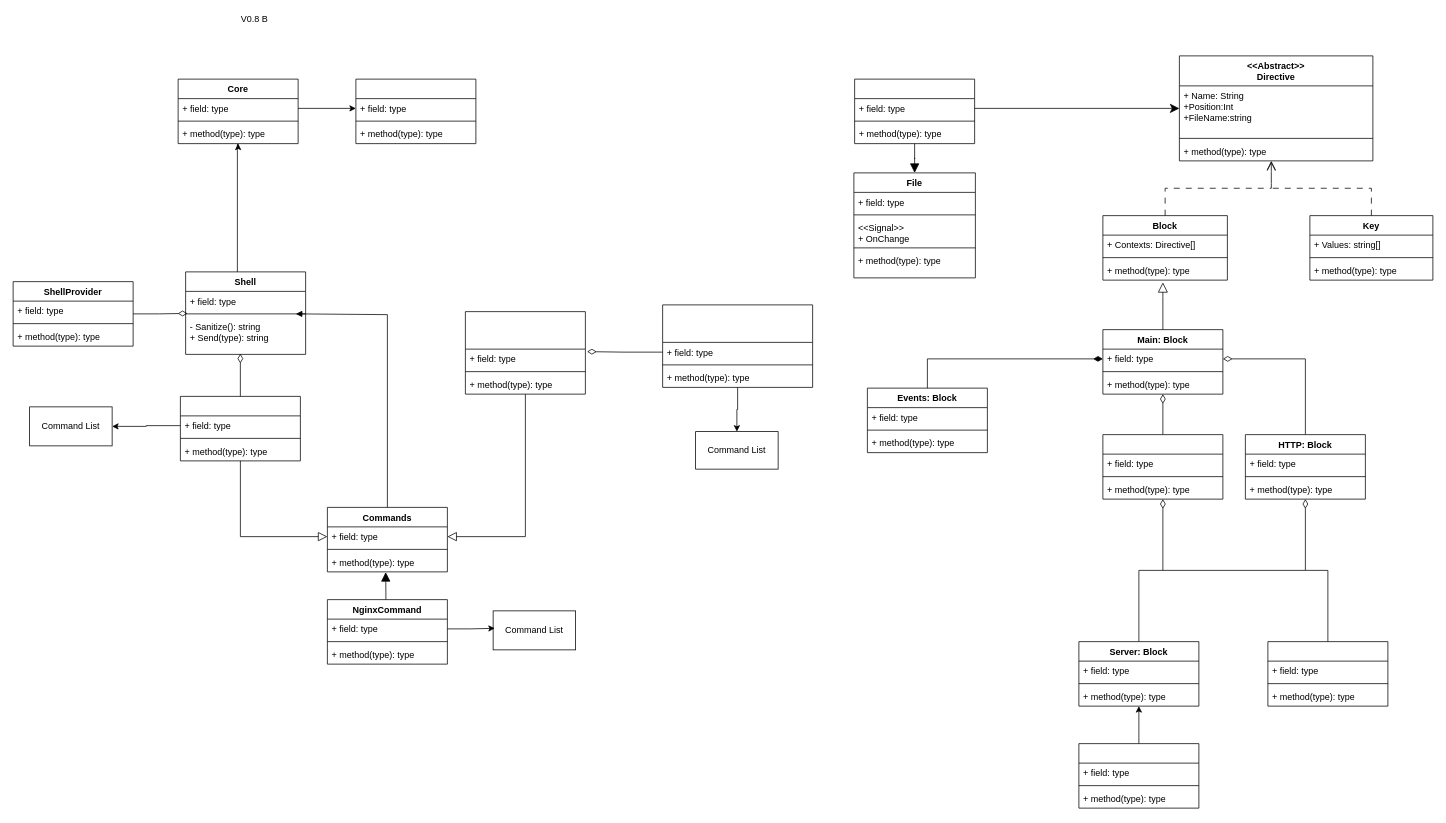
Some shapes in this 1446 by 823 pixel diagram are drawn without their labels. The shapes that lost their labels are listed below. From the top down, each one's box as (x1, y1, x2, y2) in pixels, then its label:
(355, 78, 476, 144): LogReader
(854, 78, 975, 144): ConfigCache
(465, 311, 585, 394): applicationCommand
(662, 304, 813, 387): applicationCommandProvider
(180, 396, 300, 461): ShellCommand
(1102, 434, 1223, 499): Streams:Block
(1267, 641, 1388, 706): Upstream: Block
(1078, 743, 1199, 808): Location: Block
